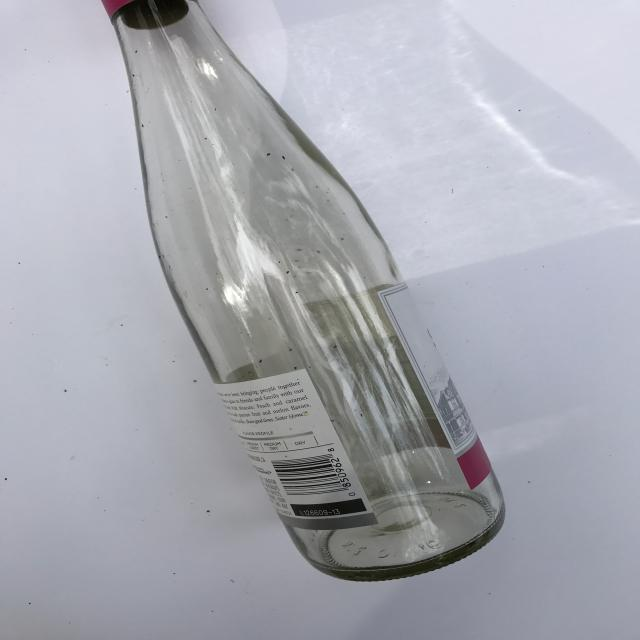Glass: (84, 0, 538, 587)
